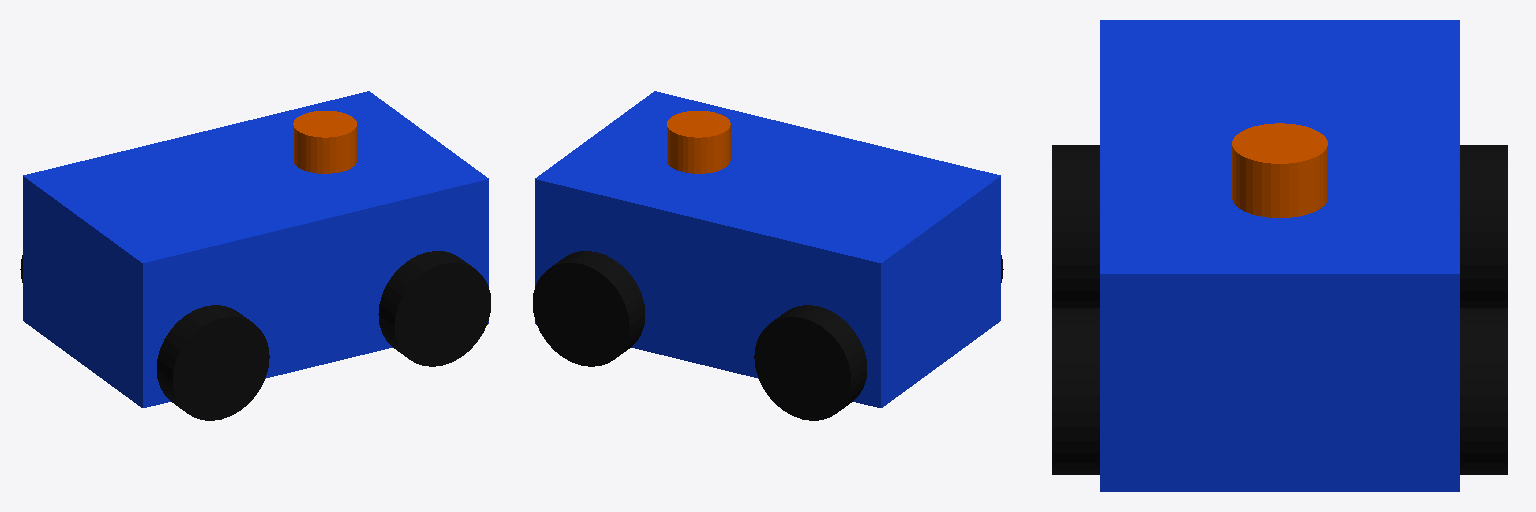
robot.urdf — ugv:
<?xml version="1.0"?>
<robot name="ugv">

  <material name="blue">
    <color rgba="0.1 0.3 0.9 1.0"/>
  </material>

  <material name="black">
    <color rgba="0.1 0.1 0.1 1.0"/>
  </material>

  <link name="base_link">
    <visual>
      <origin xyz="0 0 0.12" rpy="0 0 0"/>
      <geometry>
        <box size="0.5 0.3 0.2"/>
      </geometry>
      <material name="blue"/>
    </visual>
 
    <collision>
      <origin xyz="0 0 0.12" rpy="0 0 0"/>
      <geometry>
        <box size="0.5 0.3 0.2"/>
      </geometry>
    </collision>
    
    <inertial>
      <mass value="5.0"/>
      <inertia ixx="0.0542" ixy="0" ixz="0" iyy="0.1208" iyz="0" izz="0.1417"/>
    </inertial>
    
  </link>

  <link name="right_front_wheel">
    <visual>
      <origin xyz="0 0 0" rpy="1.5708 0 0"/>
      <geometry>
        <cylinder radius="0.07" length="0.04"/>
      </geometry>
      <material name="black"/>
    </visual>
    <collision>
      <origin xyz="0 0 0" rpy="1.5708 0 0"/>
      <geometry>
        <cylinder radius="0.07" length="0.04"/>
      </geometry>
    </collision>
    
    <inertial>
      <mass value="0.5"/>
      <inertia ixx="0.000679" ixy="0" ixz="0" iyy="0.001225" iyz="0" izz="0.000679"/>
    </inertial>
    
    
  </link>

  <link name="right_back_wheel">
    <visual>
      <origin xyz="0 0 0" rpy="1.5708 0 0"/>
      <geometry>
        <cylinder radius="0.07" length="0.04"/>
      </geometry>
      <material name="black"/>
    </visual>
    <collision>
      <origin xyz="0 0 0" rpy="1.5708 0 0"/>
      <geometry>
        <cylinder radius="0.07" length="0.04"/>
      </geometry>
    </collision>
    
    <inertial>
      <mass value="0.5"/>
      <inertia ixx="0.000679" ixy="0" ixz="0" iyy="0.001225" iyz="0" izz="0.000679"/>
    </inertial>
    
  </link>

  <link name="left_front_wheel">
    <visual>
      <origin xyz="0 0 0" rpy="1.5708 0 0"/>
      <geometry>
        <cylinder radius="0.07" length="0.04"/>
      </geometry>
      <material name="black"/>
    </visual>
    <collision>
      <origin xyz="0 0 0" rpy="1.5708 0 0"/>
      <geometry>
        <cylinder radius="0.07" length="0.04"/>
      </geometry>
    </collision>
    
    <inertial>
      <mass value="0.5"/>
      <inertia ixx="0.000679" ixy="0" ixz="0" iyy="0.001225" iyz="0" izz="0.000679"/>
    </inertial>
    
  </link>

  <link name="left_back_wheel">
    <visual>
      <origin xyz="0 0 0" rpy="1.5708 0 0"/>
      <geometry>
        <cylinder radius="0.07" length="0.04"/>
      </geometry>
      <material name="black"/>
    </visual>
    <collision>
      <origin xyz="0 0 0" rpy="1.5708 0 0"/>
      <geometry>
        <cylinder radius="0.07" length="0.04"/>
      </geometry>
    </collision>
    
    <inertial>
      <mass value="0.5"/>
      <inertia ixx="0.000679" ixy="0" ixz="0" iyy="0.001225" iyz="0" izz="0.000679"/>
    </inertial>
    
  </link>
  
  <link name="lidar_link">
    <visual>
      <geometry>
        <cylinder radius="0.04" length="0.05"/>
      </geometry>
    </visual>
    <collision>
      <geometry>
        <cylinder radius="0.04" length="0.05"/>
      </geometry>
    </collision>
    <inertial>
      <mass value="0.1"/>
      <inertia ixx="0.0000608" ixy="0" ixz="0" iyy="0.0000608" iyz="0" izz="0.00008"/>
    </inertial>
  </link>

  <joint name="right_front_wheel_joint" type="continuous">
    <parent link="base_link"/>
    <child link="right_front_wheel"/>
    <origin xyz="0.16 -0.17 0.07" rpy="0 0 0"/>
    <axis xyz="0 1 0"/>
  </joint>

  <joint name="right_back_wheel_joint" type="continuous">
    <parent link="base_link"/>
    <child link="right_back_wheel"/>
    <origin xyz="-0.16 -0.17 0.07" rpy="0 0 0"/>
    <axis xyz="0 1 0"/>
  </joint>

  <joint name="left_front_wheel_joint" type="continuous">
    <parent link="base_link"/>
    <child link="left_front_wheel"/>
    <origin xyz="0.16 0.17 0.07" rpy="0 0 0"/>
    <axis xyz="0 1 0"/>
  </joint>

  <joint name="left_back_wheel_joint" type="continuous">
    <parent link="base_link"/>
    <child link="left_back_wheel"/>
    <origin xyz="-0.16 0.17 0.07" rpy="0 0 0"/>
    <axis xyz="0 1 0"/>
  </joint>
  
   <joint name="lidar_joint" type="fixed">
    <parent link="base_link"/>
    <child link="lidar_link"/>
    <origin xyz="0.1 0 0.245" rpy="0 0 0"/>
  </joint>
  
  <!-- ============================================================ -->
  <!--  Gazebo Fortress (Ignition Gazebo 6) eklentileri               -->
  <!-- ============================================================ -->

  <!-- Tekerlek surtunmesi -->
  <gazebo reference="right_front_wheel"><mu1>1.0</mu1><mu2>1.0</mu2></gazebo>
  <gazebo reference="right_back_wheel"><mu1>1.0</mu1><mu2>1.0</mu2></gazebo>
  <gazebo reference="left_front_wheel"><mu1>1.0</mu1><mu2>1.0</mu2></gazebo>
  <gazebo reference="left_back_wheel"><mu1>1.0</mu1><mu2>1.0</mu2></gazebo>

  <!-- Diff Drive: dort tekerlek tek eklentiyle surulur (skid-steer) -->
  <gazebo>
    <plugin filename="ignition-gazebo-diff-drive-system"
            name="ignition::gazebo::systems::DiffDrive">
      <!-- Tekerlek Bilgisi -->
      <left_joint>left_front_wheel_joint</left_joint>
      <left_joint>left_back_wheel_joint</left_joint>
      <right_joint>right_front_wheel_joint</right_joint>
      <right_joint>right_back_wheel_joint</right_joint>
      <wheel_separation>0.34</wheel_separation>
      <wheel_radius>0.07</wheel_radius>

      <!-- Limitimiz -->
      <max_linear_acceleration>1.0</max_linear_acceleration>
      <max_angular_acceleration>2.0</max_angular_acceleration>

      <!-- Topic'ler ve Frame'ler -->
      <topic>/cmd_vel</topic>
      <odom_topic>/odom</odom_topic>
      <tf_topic>/tf</tf_topic>
      <frame_id>odom</frame_id>
      <child_frame_id>base_link</child_frame_id>
      <odom_publish_frequency>30</odom_publish_frequency>
    </plugin>
  </gazebo>

  <!-- Tekerlek eklem durumlarini yayinlar (robot_state_publisher icin) -->
  <gazebo>
    <plugin filename="ignition-gazebo-joint-state-publisher-system"
            name="ignition::gazebo::systems::JointStatePublisher">
      <topic>/joint_states</topic>
    </plugin>
  </gazebo>

  <!-- LIDAR sensoru (gpu_lidar) -->
  <gazebo reference="lidar_link">
    <sensor name="lidar_sensor" type="gpu_lidar">
      <pose>0 0 0 0 0 0</pose>
      <topic>/scan</topic>
      <ignition_frame_id>lidar_link</ignition_frame_id>
      <always_on>true</always_on>
      <visualize>true</visualize>
      <update_rate>10</update_rate>
      <lidar>
        <scan>
          <horizontal>
            <samples>360</samples>
            <resolution>1</resolution>
            <min_angle>-3.14159</min_angle>
            <max_angle>3.14159</max_angle>
          </horizontal>
        </scan>
        <range>
          <min>0.12</min>
          <max>10.0</max>
          <resolution>0.01</resolution>
        </range>
      </lidar>
    </sensor>
  </gazebo>

</robot>

--- Render facts (derived) ---
3 views of the same robot in one strip: view 1: azimuth 30°, elevation 25°; view 2: azimuth 150°, elevation 25°; view 3: azimuth 270°, elevation 25° (orthographic).
Model ugv with 6 links and 5 joints (4 continuous, 1 fixed), rooted at base_link, posed every joint at zero.
Links seen in each view (by area): view 1: base_link, right_front_wheel, right_back_wheel, lidar_link; view 2: base_link, left_front_wheel, left_back_wheel, lidar_link; view 3: base_link, lidar_link, right_front_wheel, left_front_wheel, right_back_wheel, left_back_wheel.
Boxes of the visible links, bbox=[...] form: base_link: bbox=[23, 91, 488, 407]; right_front_wheel: bbox=[378, 251, 490, 366]; right_back_wheel: bbox=[157, 305, 269, 420]; lidar_link: bbox=[293, 111, 356, 173]; base_link: bbox=[535, 91, 1000, 407]; left_front_wheel: bbox=[533, 251, 645, 366]; left_back_wheel: bbox=[754, 305, 866, 420]; lidar_link: bbox=[667, 111, 730, 173]; base_link: bbox=[1100, 20, 1459, 491]; lidar_link: bbox=[1232, 123, 1327, 217]; right_front_wheel: bbox=[1052, 308, 1099, 474]; left_front_wheel: bbox=[1460, 308, 1507, 474]; right_back_wheel: bbox=[1052, 145, 1099, 307]; left_back_wheel: bbox=[1460, 145, 1507, 307].
Size in the robot's own frame: 0.5 by 0.38 by 0.27 metres.
Geometry: primitives only (box / cylinder / sphere), no mesh files.
